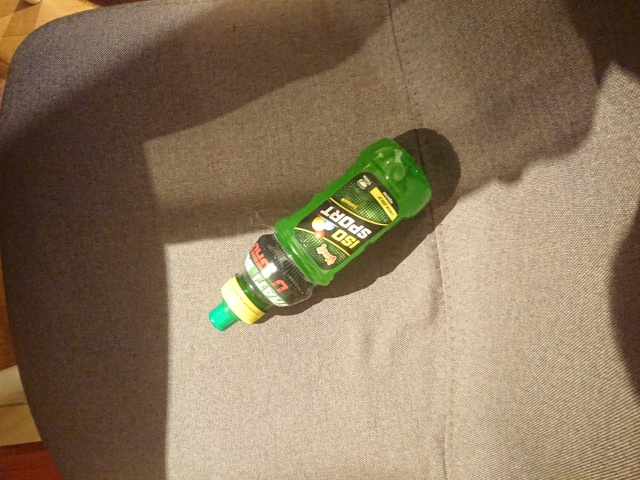Vindi Iso Sport Lemon-Grapefruit 500mL: (206, 135, 436, 333)
